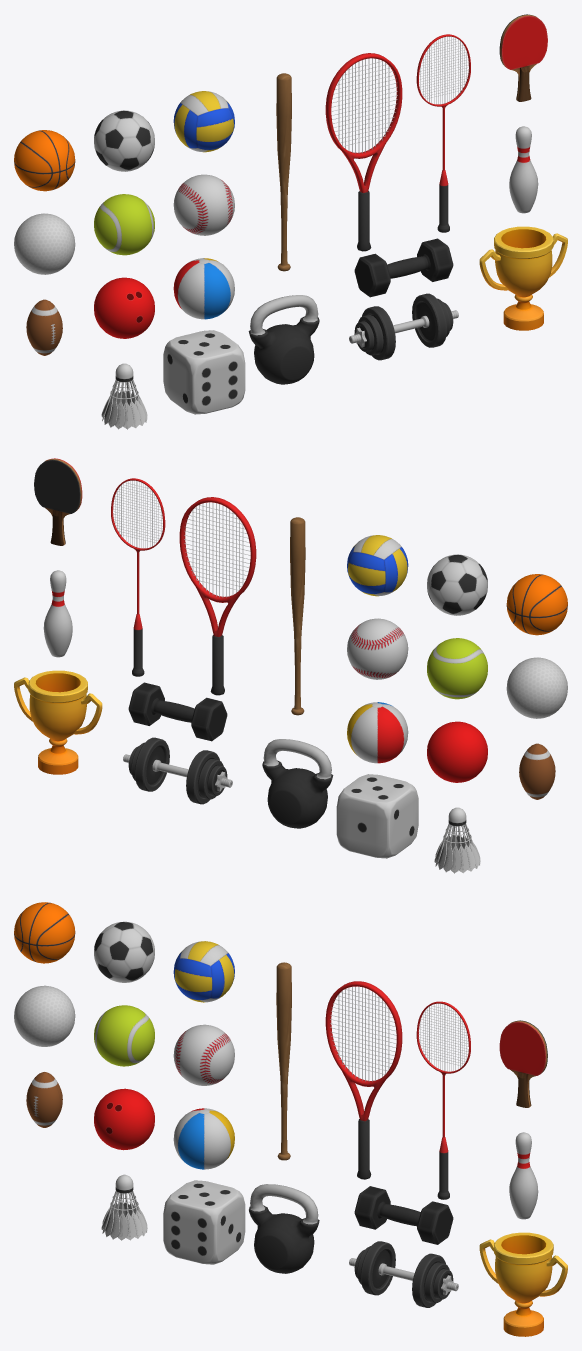
The picture shows the model from 3 angles, top to bottom: view 1: azimuth 30°, elevation 25°; view 2: azimuth 150°, elevation 25°; view 3: azimuth 330°, elevation 25°; orthographic projection.
Parts seen in each view (by area): view 1: Dice, Tennis_Racket, Trophy, Kettlebell, Badminton_Racket, Basketball, Baseball, Beach_Ball, Voleyball, Soccer_Ball, Golf_Ball, Bowling_Ball (+9 smaller); view 2: Dice, Tennis_Racket, Trophy, Kettlebell, Badminton_Racket, Basketball, Baseball, Beach_Ball, Voleyball, Soccer_Ball, Bowling_Ball, Golf_Ball (+9 smaller); view 3: Dice, Tennis_Racket, Trophy, Kettlebell, Badminton_Racket, Voleyball, Beach_Ball, Baseball, Tennis_Ball, Golf_Ball, Basketball, Bowling_Ball (+9 smaller).
Boxes of the visible parts, box(x1,y1,x2,y2) form: Dice: box(163, 330, 245, 414); Tennis_Racket: box(325, 53, 402, 251); Trophy: box(479, 226, 567, 330); Kettlebell: box(248, 295, 319, 384); Badminton_Racket: box(416, 34, 470, 232); Basketball: box(14, 130, 75, 191); Baseball: box(173, 174, 234, 235); Beach_Ball: box(173, 258, 234, 319); Voleyball: box(173, 91, 234, 152); Soccer_Ball: box(94, 110, 154, 171); Golf_Ball: box(14, 213, 75, 274); Bowling_Ball: box(94, 277, 154, 338); Dice: box(336, 774, 418, 858); Tennis_Racket: box(179, 497, 256, 695); Trophy: box(14, 670, 102, 774); Kettlebell: box(262, 739, 333, 828); Badminton_Racket: box(111, 478, 165, 676); Basketball: box(506, 574, 567, 635); Baseball: box(347, 618, 408, 679); Beach_Ball: box(347, 702, 408, 763); Voleyball: box(347, 535, 408, 596); Soccer_Ball: box(427, 554, 487, 615); Bowling_Ball: box(427, 721, 487, 782); Golf_Ball: box(506, 657, 567, 718); Dice: box(163, 1180, 245, 1264); Tennis_Racket: box(325, 981, 402, 1179); Trophy: box(479, 1232, 567, 1336); Kettlebell: box(249, 1184, 319, 1273); Badminton_Racket: box(416, 1001, 470, 1199); Voleyball: box(173, 941, 234, 1002); Beach_Ball: box(173, 1108, 234, 1169); Baseball: box(173, 1024, 234, 1085); Tennis_Ball: box(94, 1005, 154, 1066); Golf_Ball: box(14, 985, 75, 1046); Basketball: box(14, 902, 75, 963); Bowling_Ball: box(94, 1088, 154, 1150).
Bounding box in the file's own units: 10.33 × 5.51 × 1.
20 materials, 20 textured.
